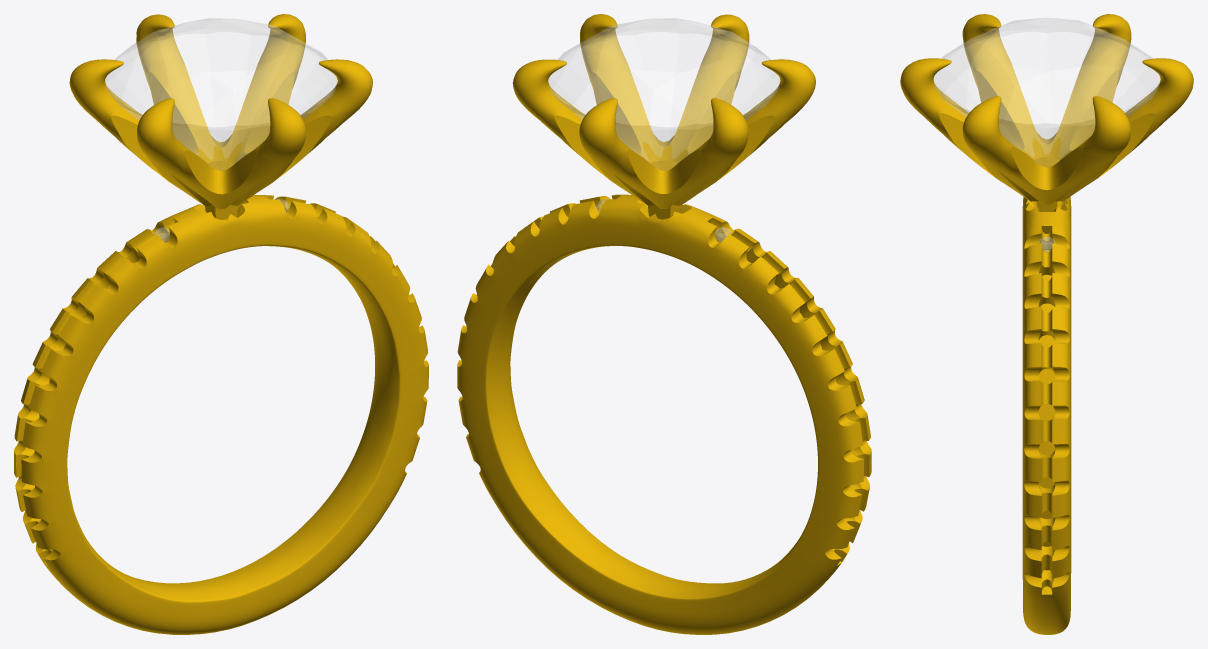
File: ring.glb
3 renders of one model, left to right at view 1: azimuth 30°, elevation 25°; view 2: azimuth 150°, elevation 25°; view 3: azimuth 270°, elevation 25°, orthographic. The views are drawn at different scales.
Visible parts, largest first — view 1: Alexandira Design Band.007, RetopoFlow.004, 7.5mm.004; view 2: Alexandira Design Band.007, RetopoFlow.004, 7.5mm.004; view 3: RetopoFlow.004, Alexandira Design Band.007, 7.5mm.004.
Part boxes in pixels (left/top/right/bottom): Alexandira Design Band.007: left=14, top=195, right=428, bottom=634; RetopoFlow.004: left=69, top=14, right=372, bottom=219; 7.5mm.004: left=106, top=18, right=336, bottom=170; Alexandira Design Band.007: left=457, top=194, right=871, bottom=634; RetopoFlow.004: left=512, top=14, right=815, bottom=219; 7.5mm.004: left=549, top=18, right=779, bottom=170; RetopoFlow.004: left=900, top=14, right=1193, bottom=211; Alexandira Design Band.007: left=1022, top=196, right=1071, bottom=634; 7.5mm.004: left=934, top=18, right=1159, bottom=166.
Size of the model in its own units: 0.0212 by 0.029 by 0.0136.
